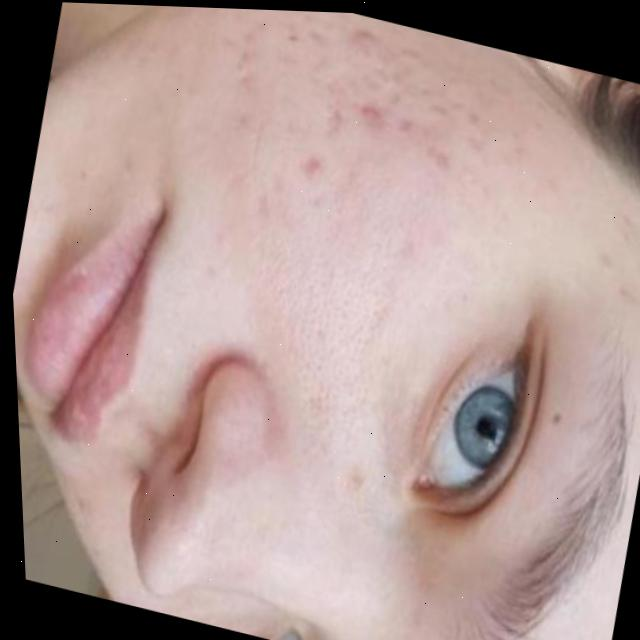Acne: (182, 7, 573, 281)
